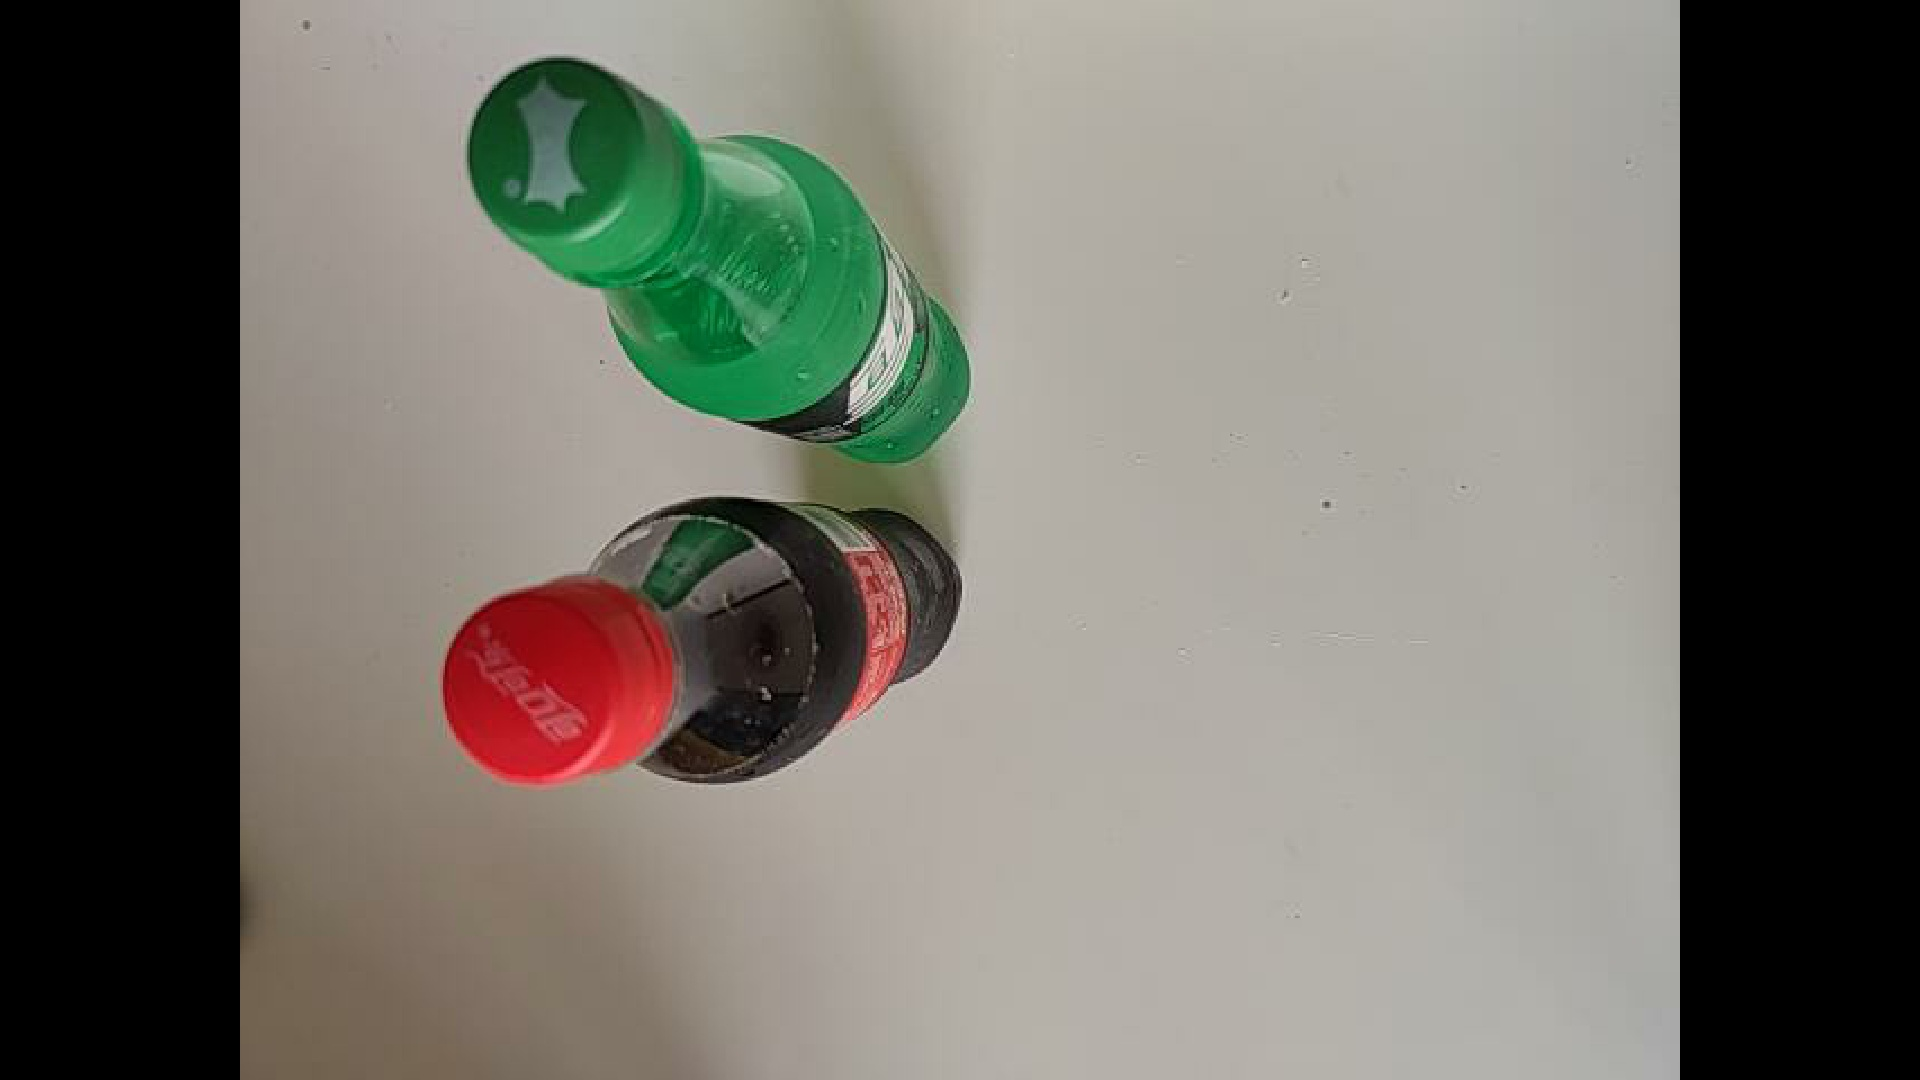cola: (439, 495, 963, 787)
sprite: (382, 41, 1011, 444)
